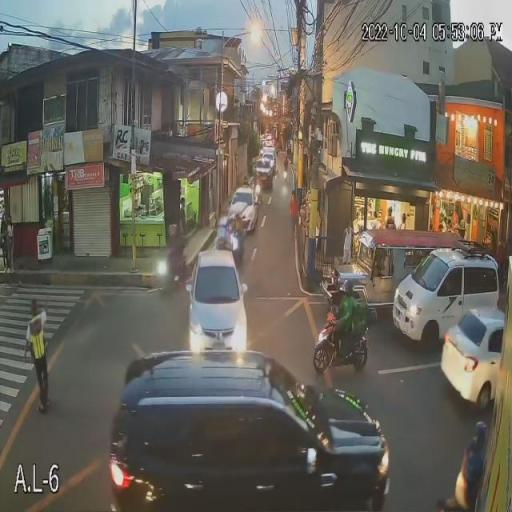helmet: (340, 278, 357, 300)
motorcycle: (313, 314, 380, 379)
rider: (333, 277, 360, 362)
